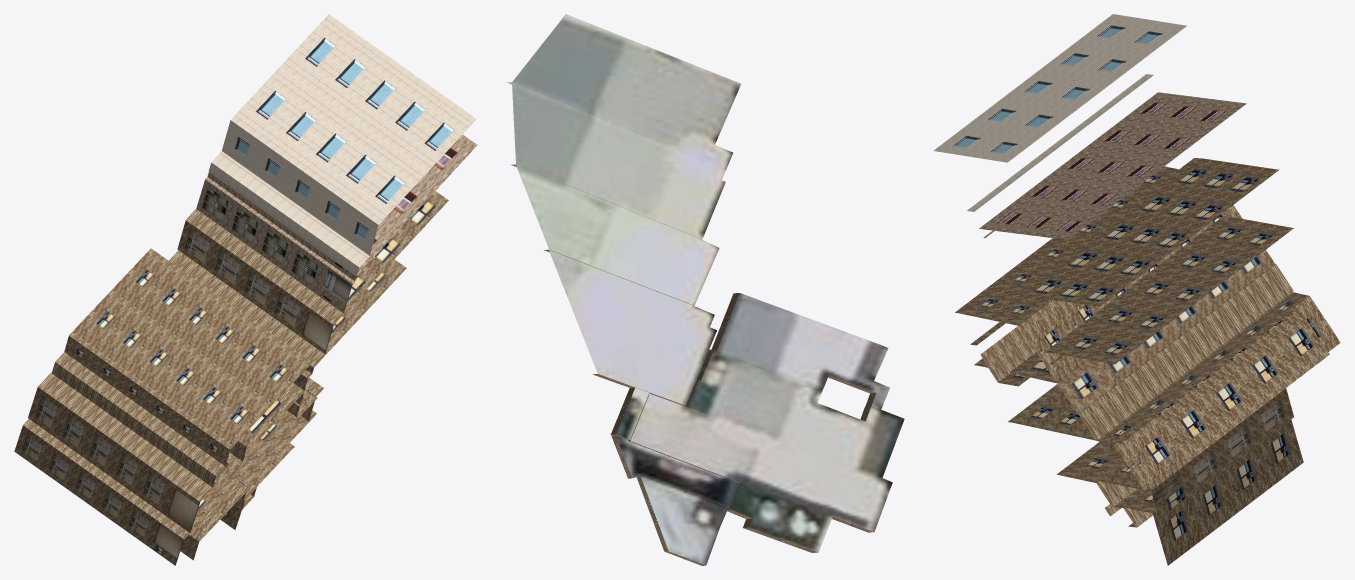
3 renders of one model, left to right at view 1: azimuth 30°, elevation 25°; view 2: azimuth 150°, elevation 25°; view 3: azimuth 270°, elevation 25°, orthographic. The views are drawn at different scales.
Bounding box in the file's own units: 43.57 × 49.8 × 30.5.
Materials: 40 (40 with a texture image).
